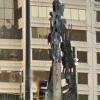Statue: (40, 2, 86, 98)
